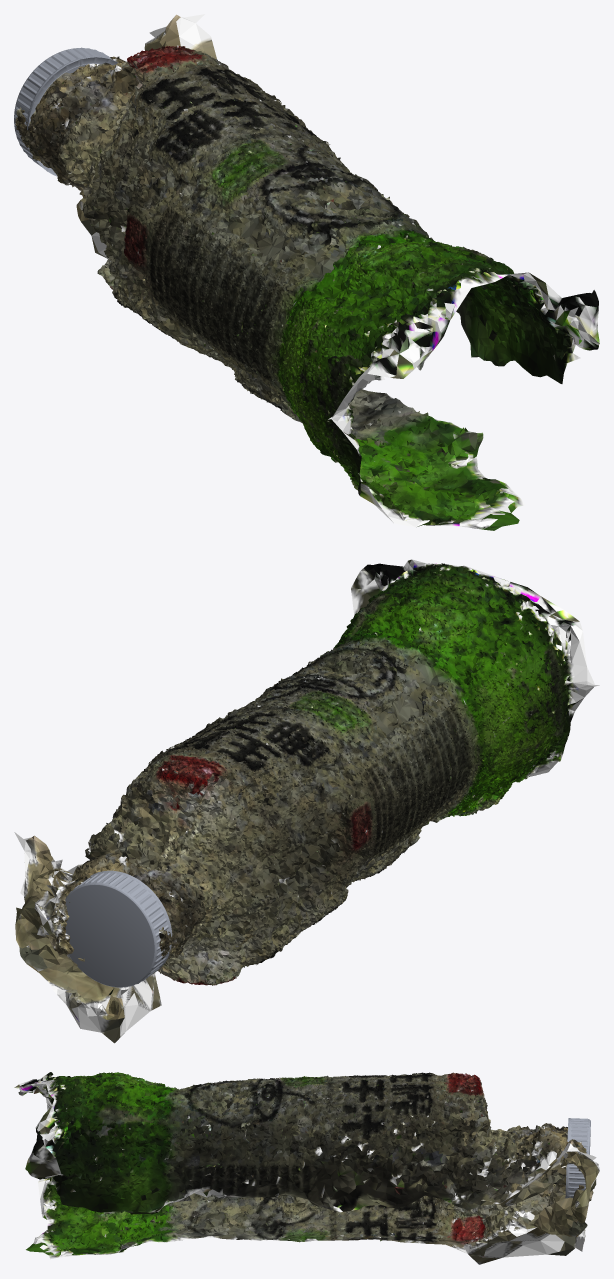
File: bottle_full_aligned_v2.fbx
3 renders of one model, top to bottom at view 1: azimuth 30°, elevation 25°; view 2: azimuth 150°, elevation 25°; view 3: azimuth 270°, elevation 25°, orthographic. The views are drawn at different scales.
Parts seen in each view (by area): view 1: DamagedBottleB, BottleCapC; view 2: DamagedBottleB, BottleCapC; view 3: DamagedBottleB, BottleCapC.
Boxes of the visible parts, box(x1,y1,x2,y2) form: DamagedBottleB: box(15, 14, 599, 530); BottleCapC: box(14, 47, 118, 176); DamagedBottleB: box(14, 559, 599, 1043); BottleCapC: box(65, 870, 172, 987); DamagedBottleB: box(14, 1072, 599, 1264); BottleCapC: box(565, 1118, 590, 1198).
Bounding box in the file's own units: 54.86 × 51.68 × 153.
2 materials, 1 textured.
